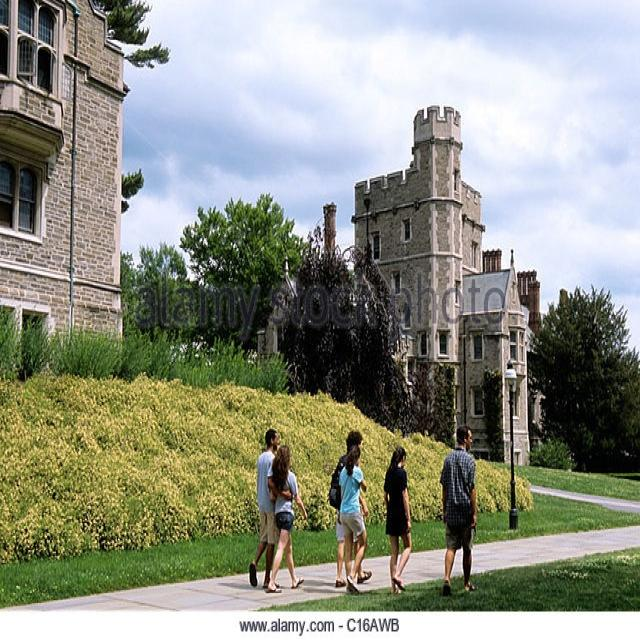body: (438, 422, 481, 597), (248, 428, 293, 592), (329, 429, 374, 590), (263, 444, 308, 594), (381, 443, 414, 599), (337, 442, 368, 596)
